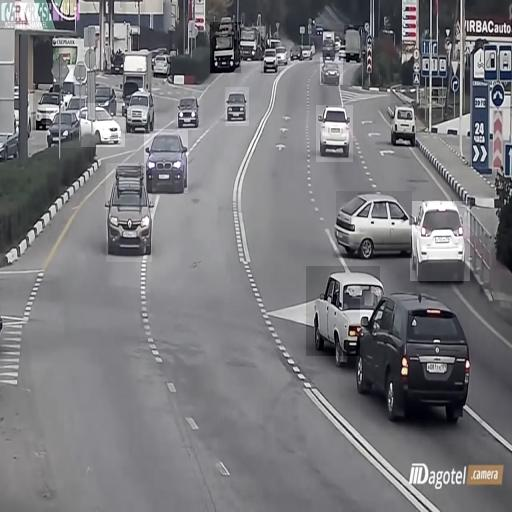小汽车: (360, 291, 469, 436), (306, 266, 380, 356), (336, 191, 412, 258), (410, 201, 470, 281), (106, 163, 152, 262), (144, 129, 188, 193), (316, 105, 353, 162), (81, 103, 125, 147), (210, 22, 241, 73), (46, 108, 82, 148), (126, 88, 157, 134), (33, 85, 61, 130), (390, 103, 417, 146), (225, 87, 249, 126), (174, 98, 203, 130), (344, 25, 365, 62), (320, 57, 343, 85), (261, 48, 280, 76), (152, 52, 171, 76)
